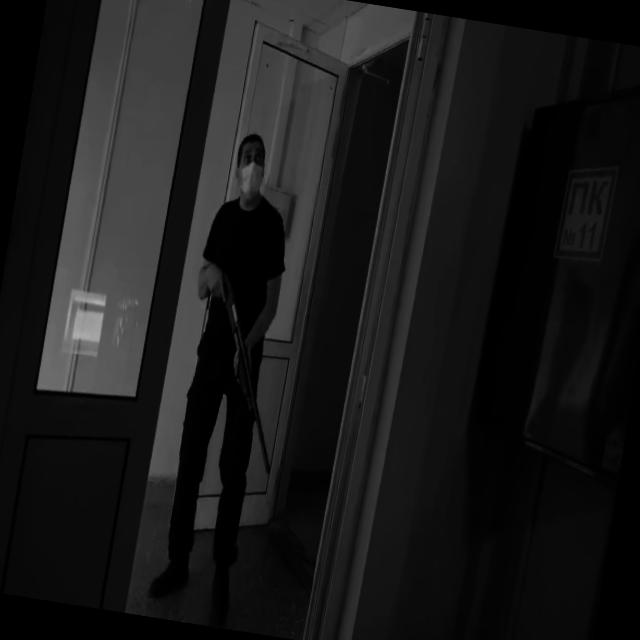gun: (192, 268, 302, 476)
person with a gun: (144, 130, 323, 632)
